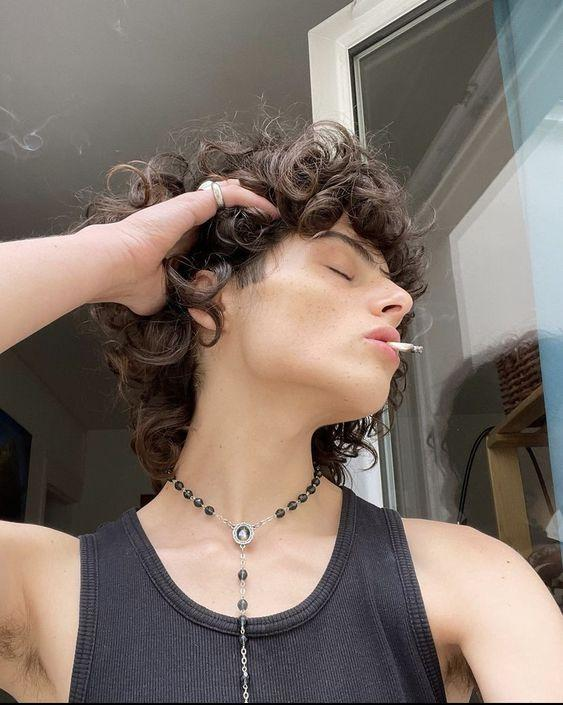cigarette: (385, 341, 425, 354)
